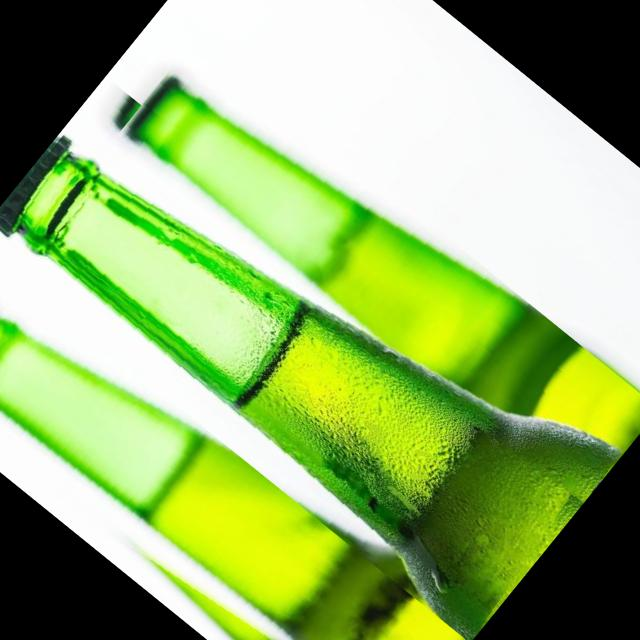Glass: (0, 78, 603, 640), (100, 35, 640, 530), (0, 273, 470, 640)
